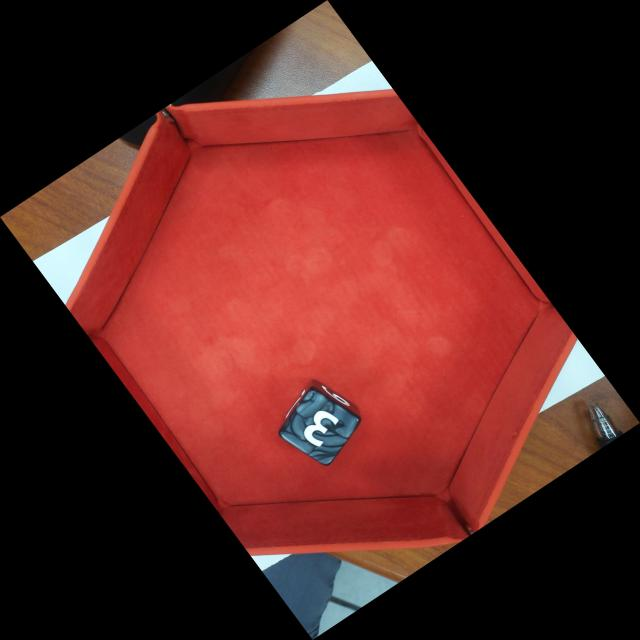dice: (288, 390, 354, 459)
